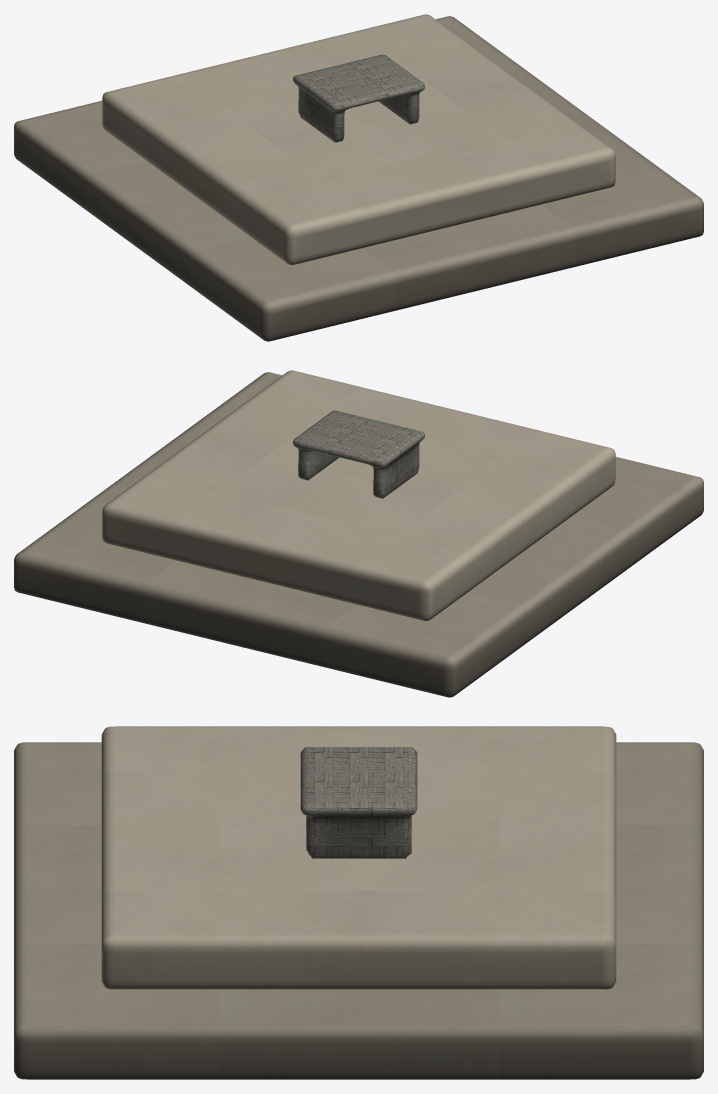
Rendered from fair_stand_low.glb.
3 views of the same model, one above another, from view 1: azimuth 30°, elevation 25°; view 2: azimuth 150°, elevation 25°; view 3: azimuth 270°, elevation 25° (orthographic). The views are drawn at different scales.
Visible parts, largest first — view 1: fair_stand_low_chalk, fair_stand_low_wood; view 2: fair_stand_low_chalk, fair_stand_low_wood; view 3: fair_stand_low_chalk, fair_stand_low_wood.
Boxes of the visible parts, left/top/right/bottom form: fair_stand_low_chalk: left=14, top=14, right=703, bottom=341; fair_stand_low_wood: left=293, top=54, right=424, bottom=142; fair_stand_low_chalk: left=14, top=370, right=703, bottom=697; fair_stand_low_wood: left=293, top=410, right=424, bottom=498; fair_stand_low_chalk: left=14, top=726, right=703, bottom=1079; fair_stand_low_wood: left=300, top=747, right=417, bottom=858.
Bounding box in the file's own units: 5.9 × 1.52 × 5.9.
Materials: 2 (2 with a texture image).
